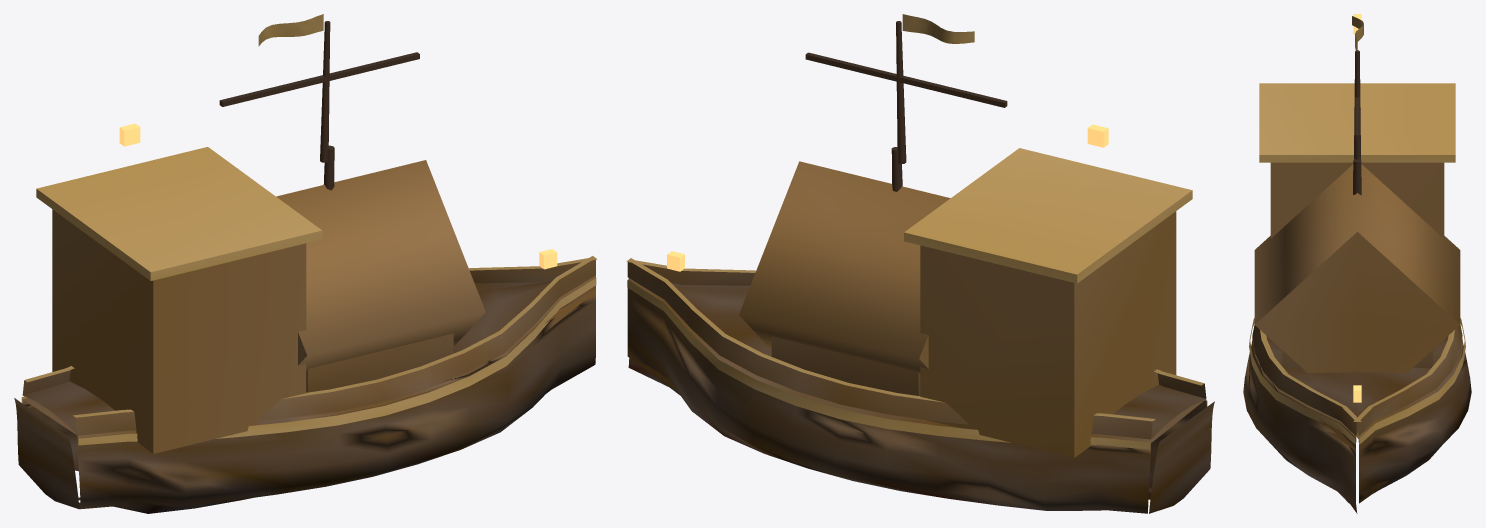
File: garden-hero-tether.glb
3 views of the same model, side by side, from view 1: azimuth 30°, elevation 25°; view 2: azimuth 150°, elevation 25°; view 3: azimuth 270°, elevation 25° (orthographic). The views are drawn at different scales.
Visible parts, largest first — view 1: wood-hull, trim-hull, spar-hull, glow-hull; view 2: wood-hull, trim-hull, spar-hull, glow-hull; view 3: wood-hull, trim-hull, spar-hull.
Part boxes in pixels (bbox=[...]): wood-hull: bbox=[14, 14, 597, 513]; trim-hull: bbox=[21, 147, 596, 445]; spar-hull: bbox=[219, 21, 419, 190]; glow-hull: bbox=[119, 123, 557, 269]; wood-hull: bbox=[626, 14, 1214, 513]; trim-hull: bbox=[627, 148, 1207, 449]; spar-hull: bbox=[805, 21, 1007, 191]; glow-hull: bbox=[667, 124, 1108, 271]; wood-hull: bbox=[1243, 16, 1471, 513]; trim-hull: bbox=[1249, 83, 1465, 444]; spar-hull: bbox=[1353, 50, 1361, 195].
Size of the model in its own units: 11.78 by 9.32 by 4.9.
